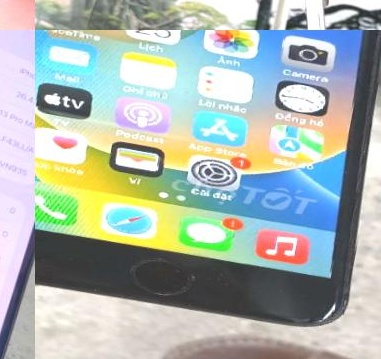scratch: (290, 288, 356, 345)
